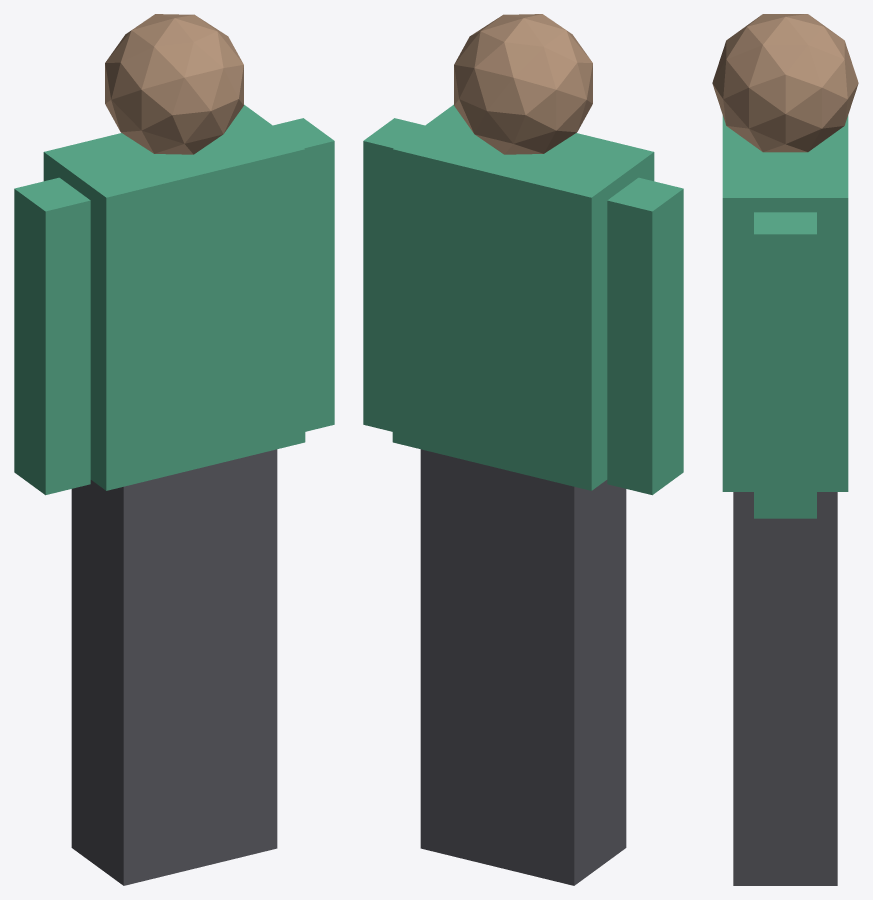
Rendered from person-c.glb.
3 views of the same model, side by side, from view 1: azimuth 30°, elevation 25°; view 2: azimuth 150°, elevation 25°; view 3: azimuth 270°, elevation 25° (orthographic).
Parts seen in each view (by area): view 1: l, t, a, h, b; view 2: l, t, a, h, b; view 3: l, t, b, h.
Part boxes in pixels (x1=…): l: x1=71, y1=449, x2=277, y2=885; t: x1=43, y1=104, x2=305, y2=490; a: x1=14, y1=177, x2=90, y2=495; h: x1=105, y1=14, x2=243, y2=154; b: x1=273, y1=118, x2=334, y2=431; l: x1=420, y1=449, x2=626, y2=885; t: x1=392, y1=104, x2=654, y2=490; a: x1=607, y1=177, x2=683, y2=495; h: x1=454, y1=14, x2=592, y2=154; b: x1=363, y1=118, x2=424, y2=431; l: x1=733, y1=492, x2=837, y2=885; t: x1=722, y1=115, x2=848, y2=491; b: x1=754, y1=212, x2=816, y2=518; h: x1=712, y1=14, x2=858, y2=152.
Size of the model in its own units: 0.64 by 1.75 by 0.28.
